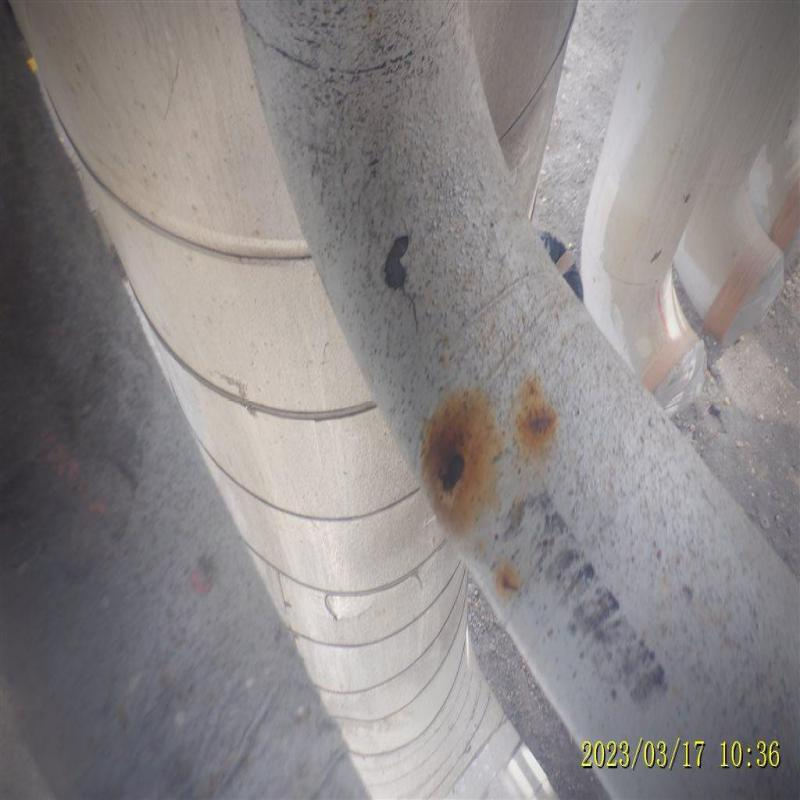corrosion: (441, 450, 467, 498)
